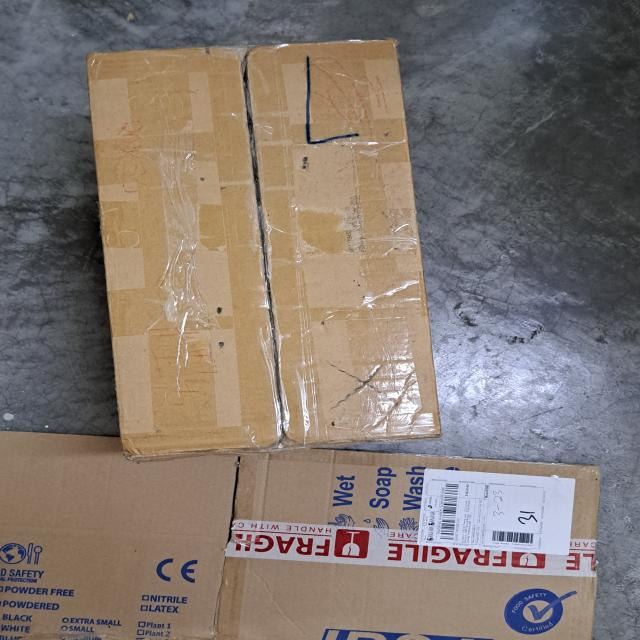cardboard: (84, 36, 445, 452), (0, 428, 601, 640)
